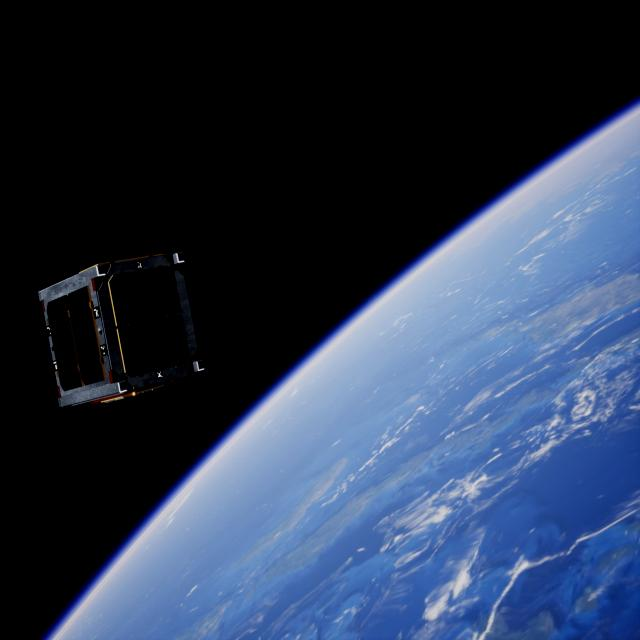satellite: (35, 241, 207, 406)
